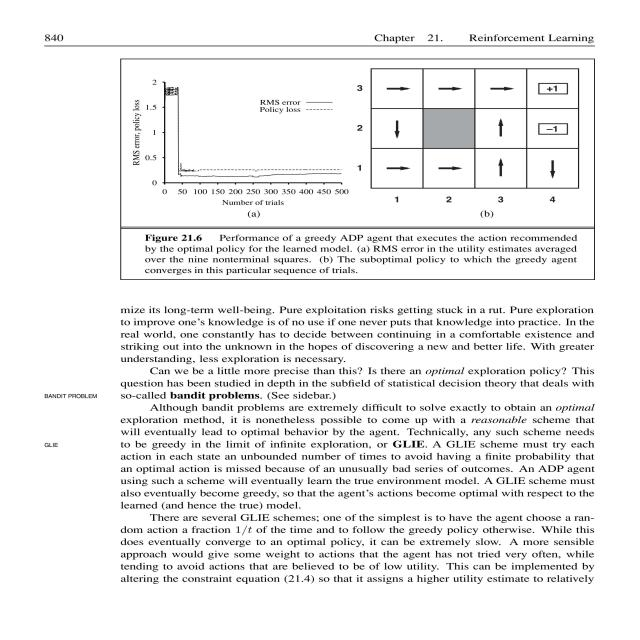diagram: (84, 50, 596, 285)
